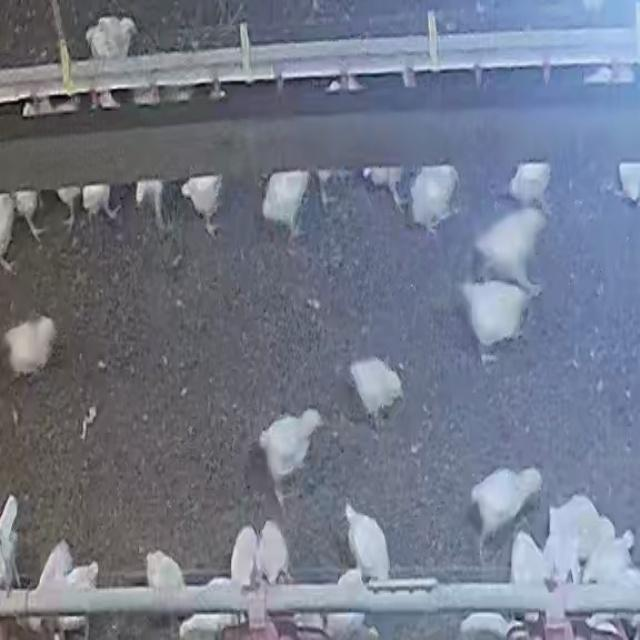chicken: (254, 402, 328, 510), (458, 275, 531, 371), (474, 204, 547, 294), (465, 462, 544, 544), (347, 353, 408, 432), (343, 501, 395, 580), (1, 311, 58, 382)
